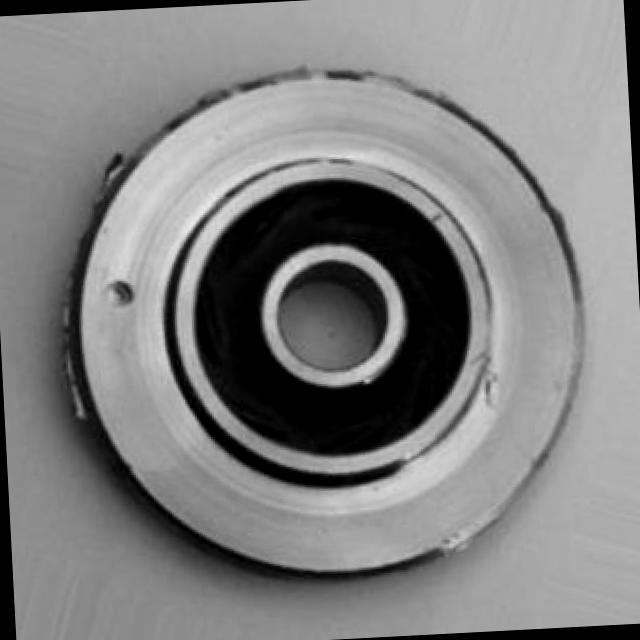Defect: (104, 272, 142, 310)
